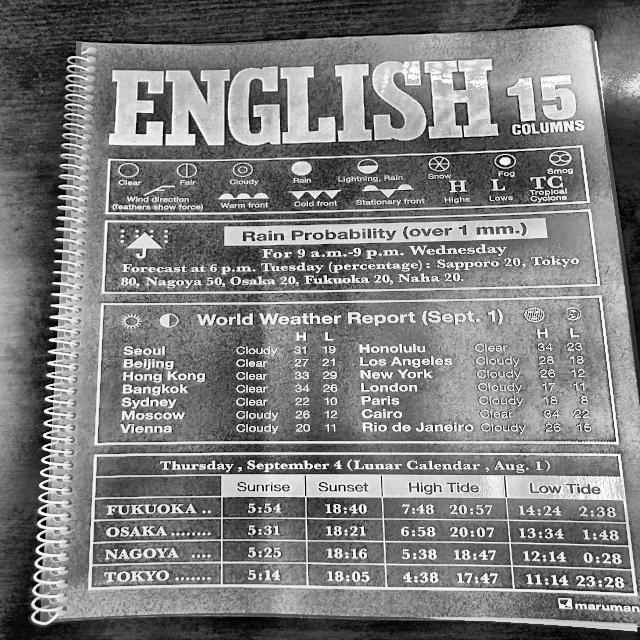Notebook: (33, 27, 639, 629)
